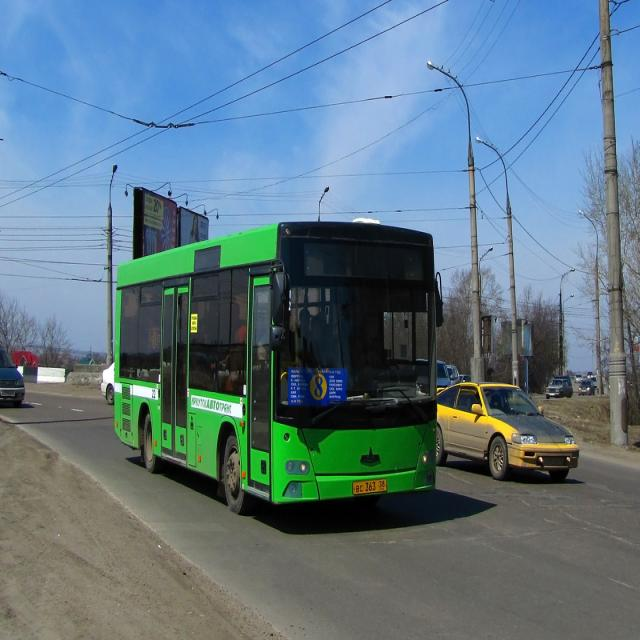number-of-bus: (313, 376, 326, 400)
